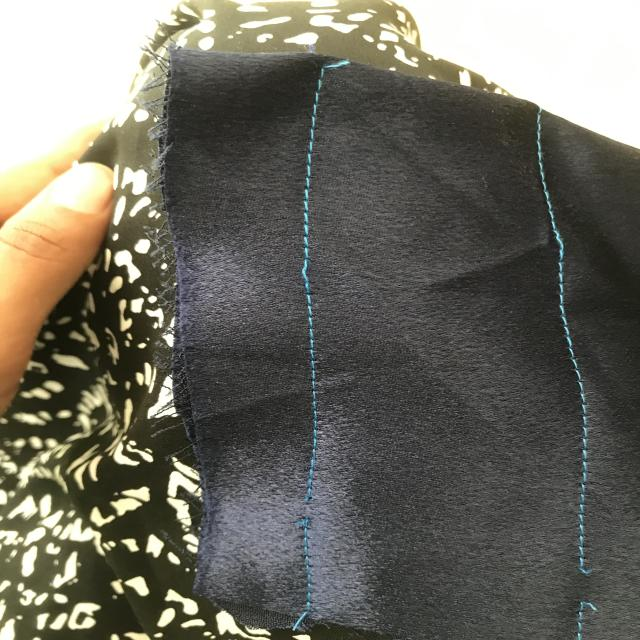broken: (561, 549, 608, 620)
skip: (531, 222, 600, 268)
